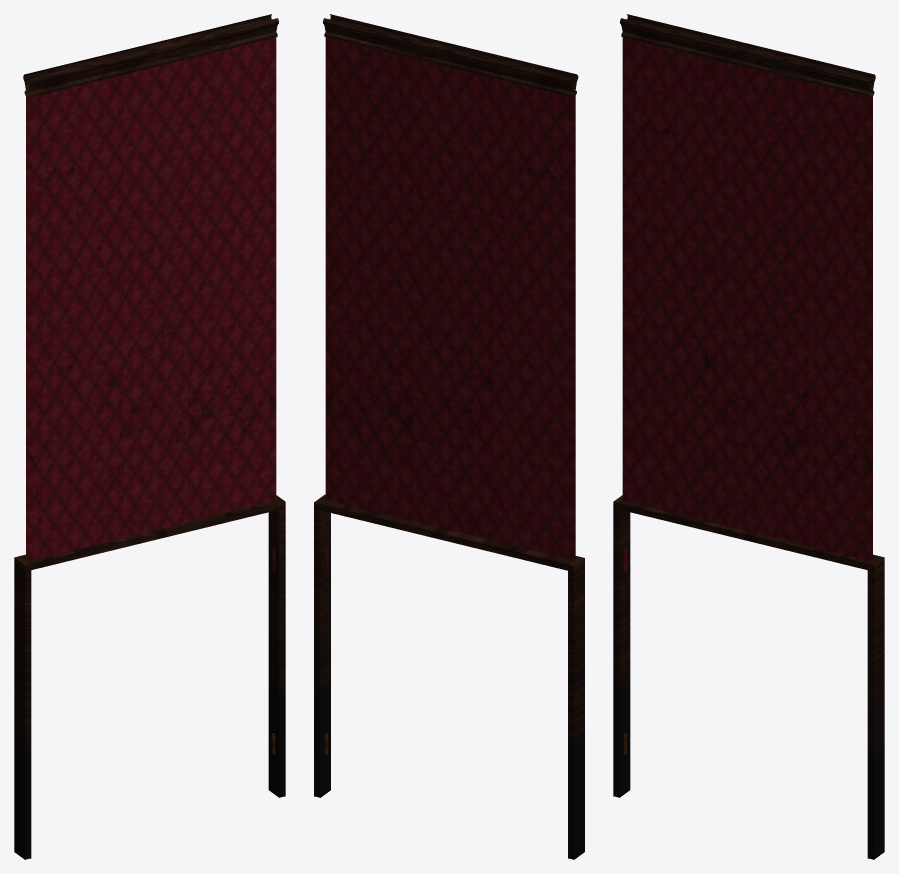
Rendered from Mod_Wall_2x6_Door_B.fbx.
The picture shows the model from 3 angles, left to right: view 1: azimuth 30°, elevation 25°; view 2: azimuth 150°, elevation 25°; view 3: azimuth 330°, elevation 25°; orthographic projection.
Parts seen in each view (by area): view 1: Mod_Wall_2x6_Door_B_High; view 2: Mod_Wall_2x6_Door_B_High; view 3: Mod_Wall_2x6_Door_B_High.
Part boxes in pixels (left/top/right/bottom): Mod_Wall_2x6_Door_B_High: left=14, top=14, right=285, bottom=859; Mod_Wall_2x6_Door_B_High: left=314, top=14, right=584, bottom=859; Mod_Wall_2x6_Door_B_High: left=613, top=14, right=884, bottom=859.
Size of the model in its own units: 210 by 600 by 15.
Materials: 1 (1 with a texture image).
